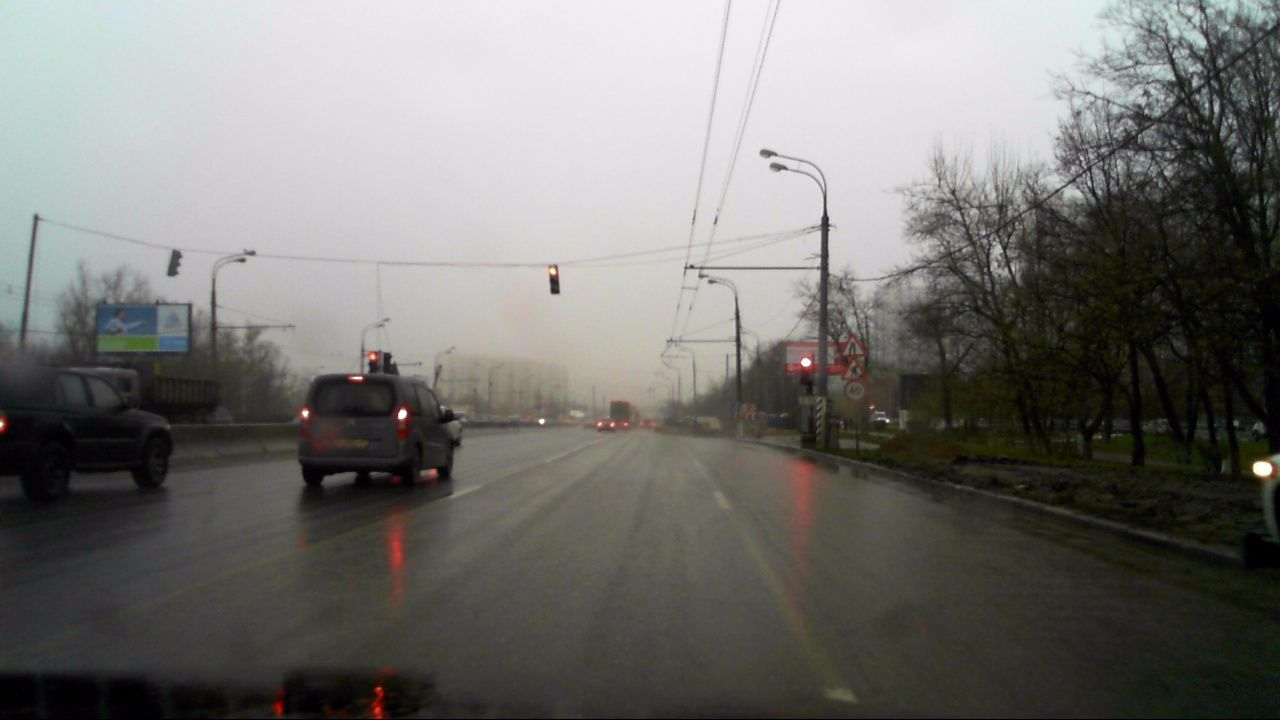speed_warning_40: (844, 381, 864, 399)
